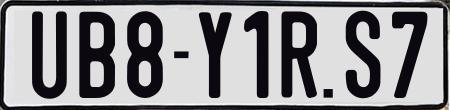1: (242, 9, 268, 96)
7: (391, 10, 432, 102)
8: (127, 9, 164, 100)
B: (77, 11, 116, 98)
R: (281, 10, 319, 100)
S: (345, 8, 382, 95)
U: (32, 11, 73, 99)
Y: (197, 9, 236, 96)
